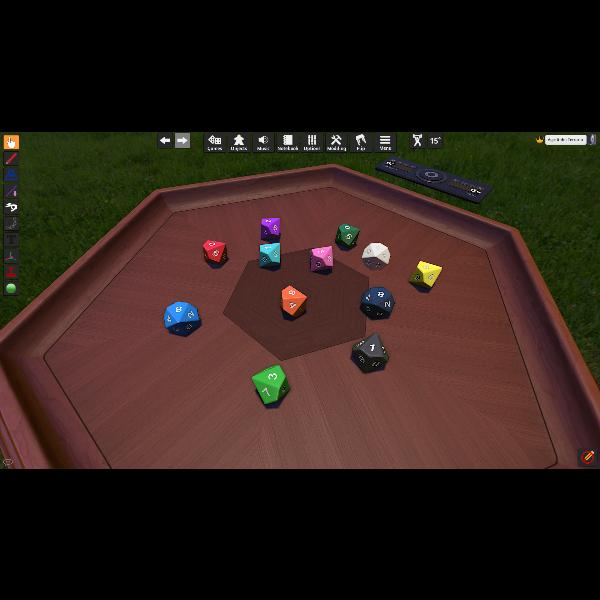d10: (252, 364, 290, 404), (351, 333, 387, 373), (164, 300, 200, 334), (360, 287, 392, 319), (280, 284, 306, 318), (410, 260, 441, 288), (361, 242, 389, 270), (202, 239, 226, 263), (259, 242, 281, 268), (310, 245, 332, 271), (336, 223, 358, 247), (261, 216, 281, 240)
